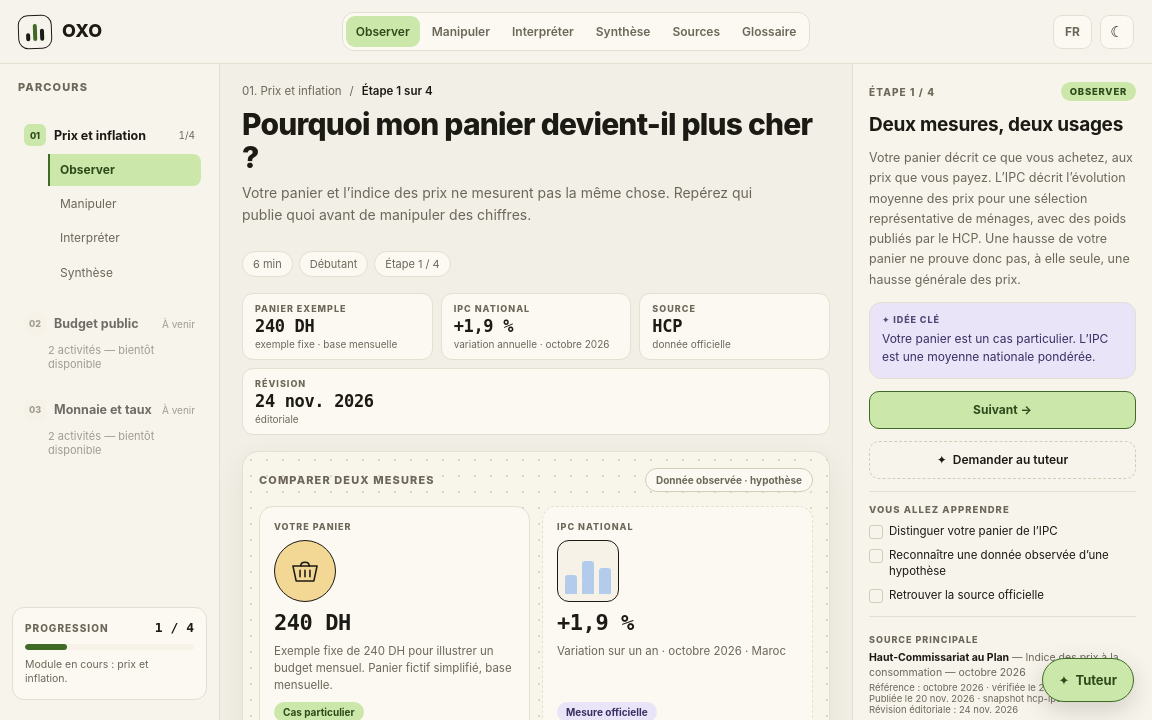
Test: App › répond aux questions du tuteur dans le dock
This screenshot has width=1152, height=720.
What coordinates should you click on to do the following:
click the button "✦ Tuteur"
I would click on:
 (1088, 680)
Its box is [1042,658,1134,702].
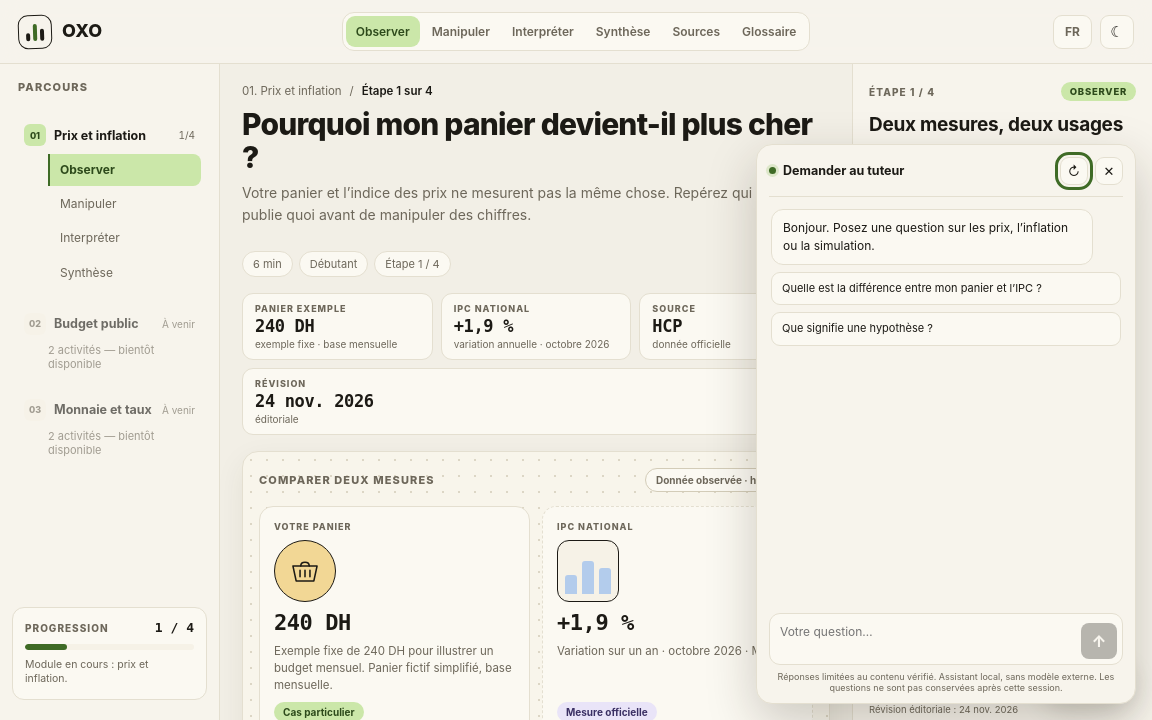
What coordinates should you click on to do the following:
click the button "Quelle est la différence entre mon panier et l’IPC ?"
I would click on:
 (946, 289)
Its box is [771,272,1121,305].
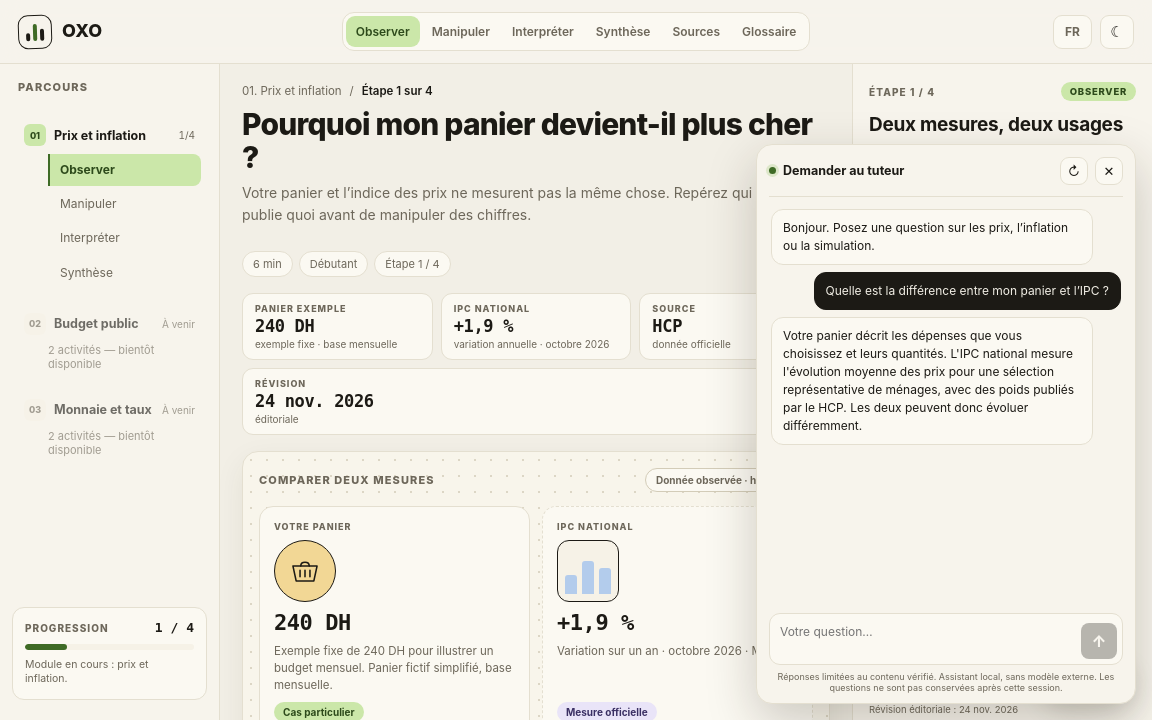
Now the text "Votre panier décrit les dépenses" is shown, box [783,328,1074,433]
